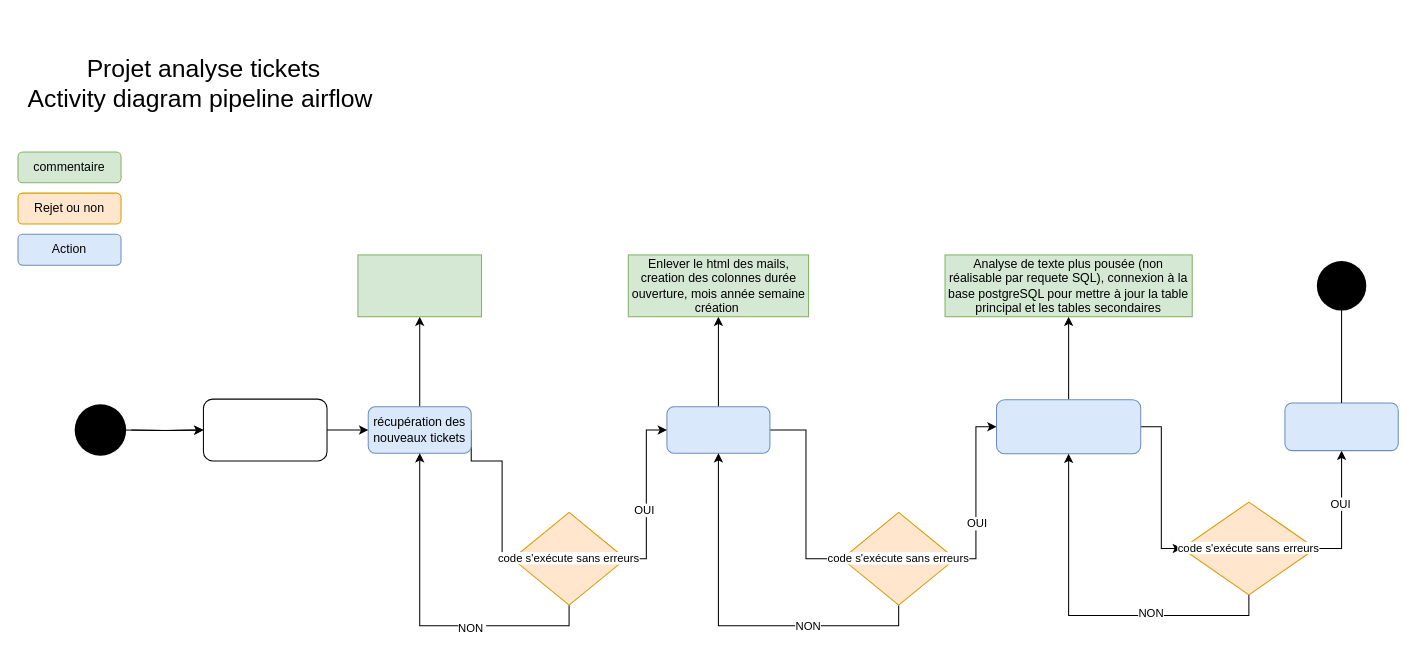
The diagram is 1416 pixels wide and 652 high, and some of its shapes have lost their labels. The centre of each missing label's shape, as x and y in pixels:
Analyse et envoies des nouvelles datas dans la base gestsup: (x=1068, y=426)
Apache lance les scrypts pythons: (x=264, y=429)
Clean et création de data: (x=718, y=429)
Connextion à mariaDB et récupération du csv: (x=419, y=285)
Data Base recoit les données et mets à jour la base: (x=1341, y=426)
